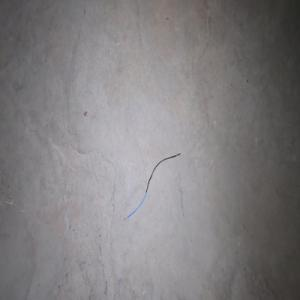Wire: (123, 152, 180, 221)
